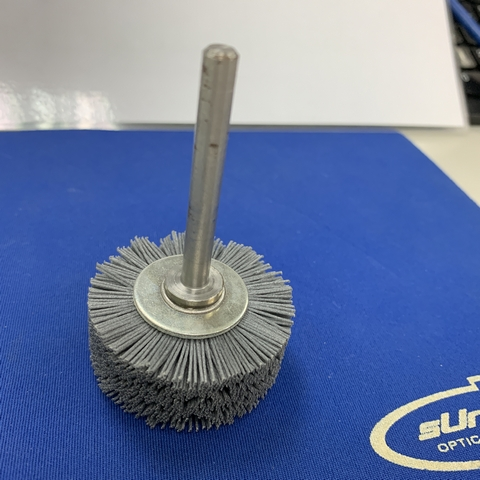Wheel Brush: (64, 109, 319, 424), (94, 41, 283, 423), (86, 35, 269, 416)
